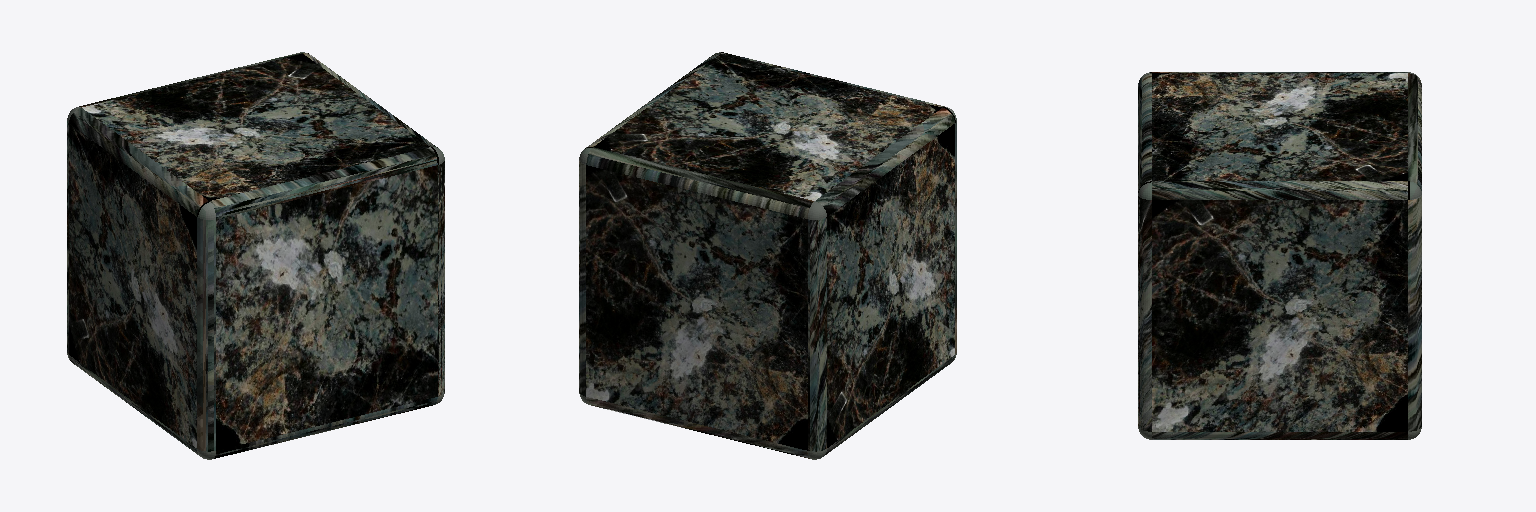
3 renders of one model, left to right at view 1: azimuth 30°, elevation 25°; view 2: azimuth 150°, elevation 25°; view 3: azimuth 270°, elevation 25°, orthographic.
Parts seen in each view (by area): view 1: Cube; view 2: Cube; view 3: Cube.
Part boxes in pixels (x1,y1,x2,y2): Cube: (67, 52, 444, 459); Cube: (579, 52, 956, 459); Cube: (1138, 72, 1421, 439).
Bounding box in the file's own units: 2 × 2 × 2.
Materials: 1 (1 with a texture image).